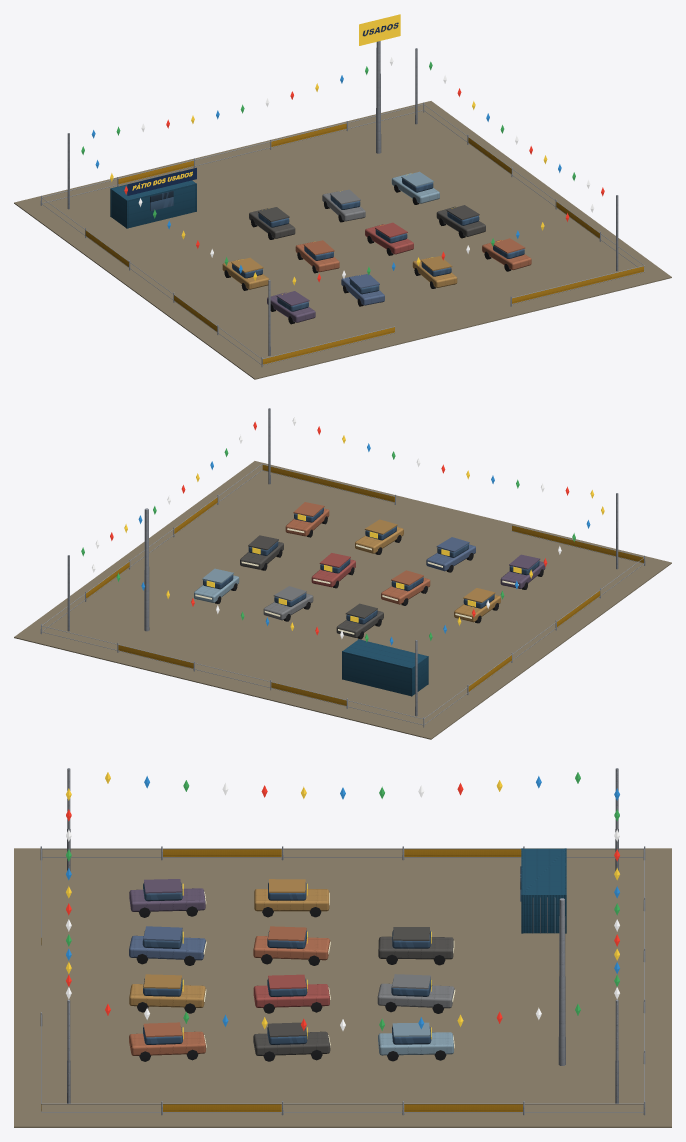
File: patio_de_usados.glb
3 renders of one model, top to bottom at view 1: azimuth 30°, elevation 25°; view 2: azimuth 150°, elevation 25°; view 3: azimuth 270°, elevation 25°, orthographic. The views are drawn at different scales.
Parts seen in each view (by area): view 1: patio_de_usados_liso, patio_de_usados; view 2: patio_de_usados_liso, patio_de_usados; view 3: patio_de_usados_liso, patio_de_usados.
Part boxes in pixels (x1,y1,x2,y2): patio_de_usados_liso: [14, 101, 671, 379]; patio_de_usados: [40, 14, 643, 367]; patio_de_usados_liso: [14, 461, 671, 739]; patio_de_usados: [40, 408, 645, 727]; patio_de_usados_liso: [14, 848, 671, 1127]; patio_de_usados: [40, 768, 645, 1115].
Size of the model in its own units: 36 by 11.38 by 36.
Materials: 9 (6 with a texture image).
